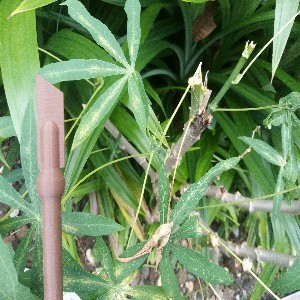cutter: (34, 73, 66, 300)
